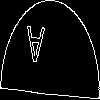A: (25, 25, 45, 74)
